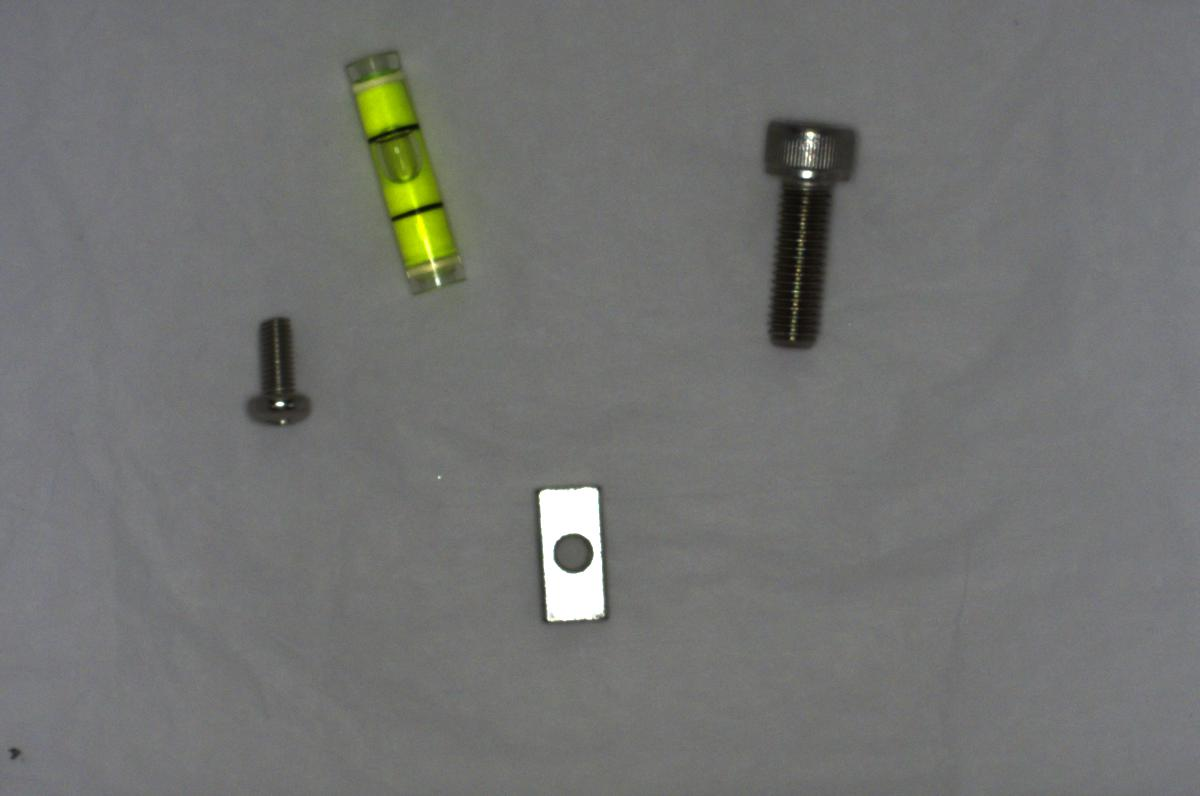Hexagon screw: (737, 106, 872, 354)
Horizontal bubble: (340, 38, 470, 292)
Rectangular nut: (530, 473, 622, 650)
Round head screw: (234, 309, 325, 432)
